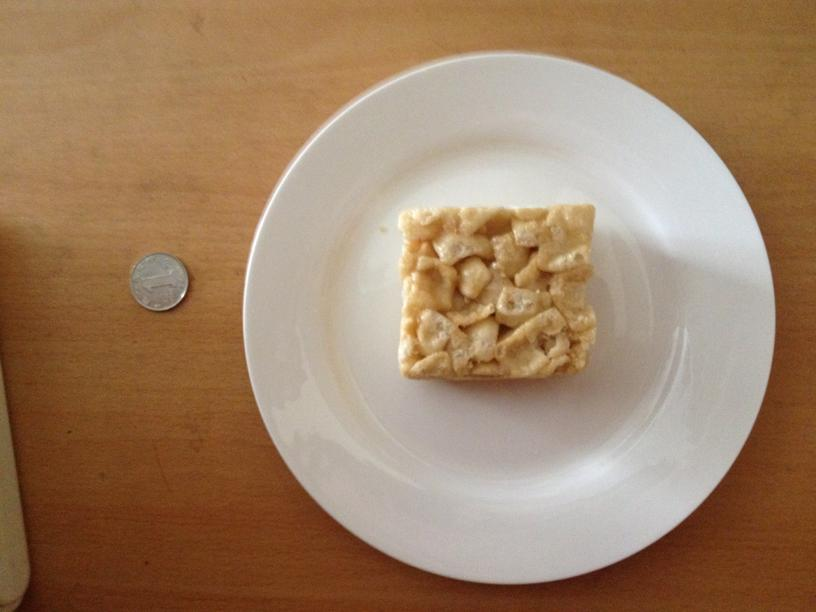coin: (128, 253, 188, 311)
sachima: (393, 199, 592, 385)
